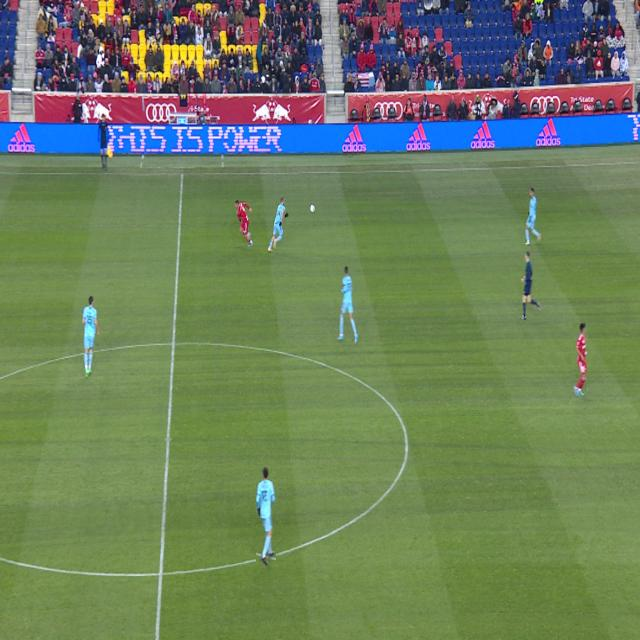football: (311, 204, 314, 213)
player: (256, 468, 276, 564), (336, 266, 359, 344), (82, 296, 100, 378), (268, 196, 288, 252), (574, 324, 587, 397), (525, 188, 541, 245), (235, 200, 253, 247)
referee: (520, 251, 540, 319)
